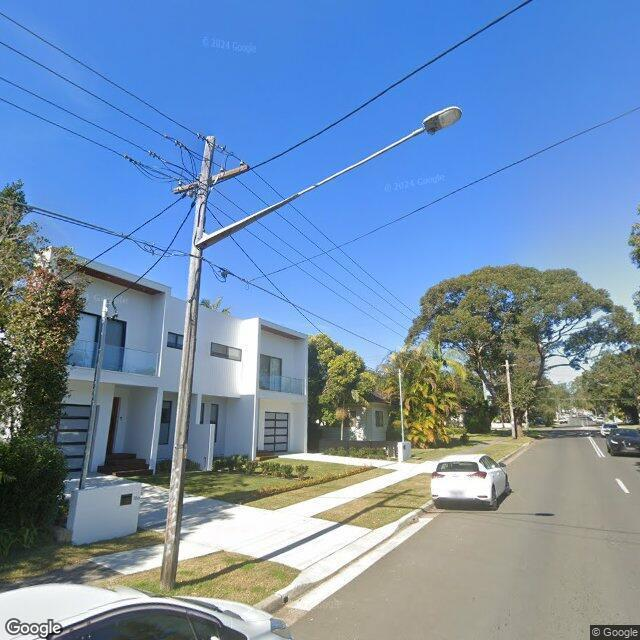crossarm: (170, 162, 251, 196)
steel-pole: (78, 297, 110, 488), (399, 368, 405, 441)
streetlight: (194, 105, 463, 250)
timber-pole: (160, 135, 215, 591), (506, 359, 516, 437)
